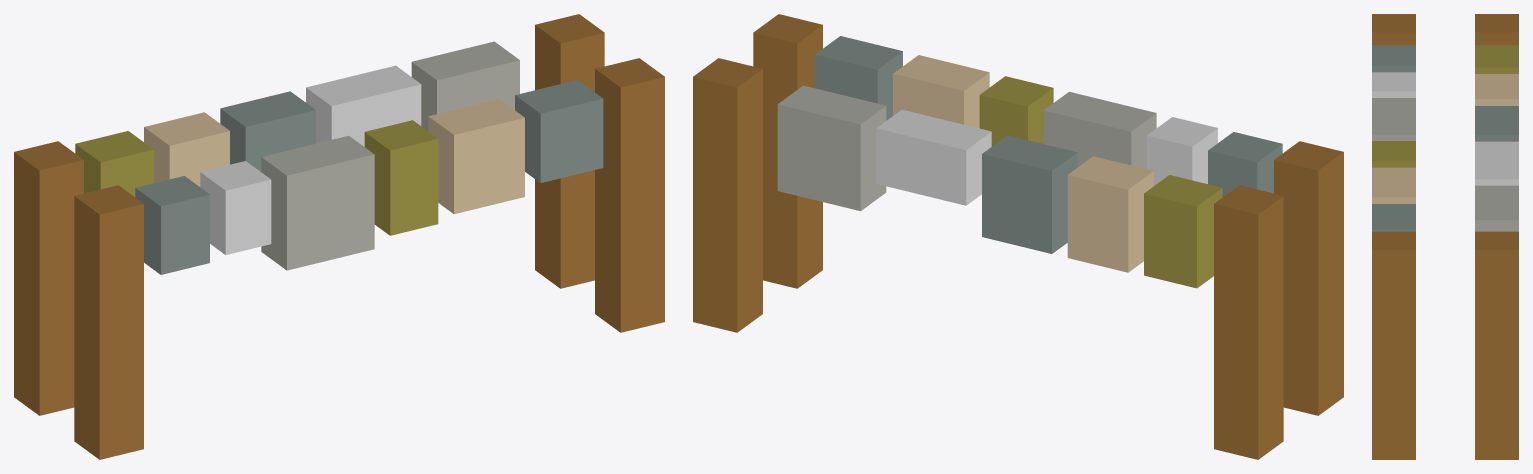
The model's file is SM_Tendedero_v1_DosCuerdas_LOD1.fbx.
3 renders of one model, left to right at view 1: azimuth 30°, elevation 25°; view 2: azimuth 150°, elevation 25°; view 3: azimuth 270°, elevation 25°, orthographic. The views are drawn at different scales.
Parts seen in each view (by area): view 1: SM_vida_fuerte_v6_LOD1; view 2: SM_vida_fuerte_v6_LOD1; view 3: SM_vida_fuerte_v6_LOD1.
Boxes of the visible parts, x1,y1,x2,y2 form: SM_vida_fuerte_v6_LOD1: [14, 14, 664, 459]; SM_vida_fuerte_v6_LOD1: [693, 14, 1343, 459]; SM_vida_fuerte_v6_LOD1: [1372, 14, 1518, 459].
Bounding box in the file's own units: 4.34 × 1.8 × 1.14.
